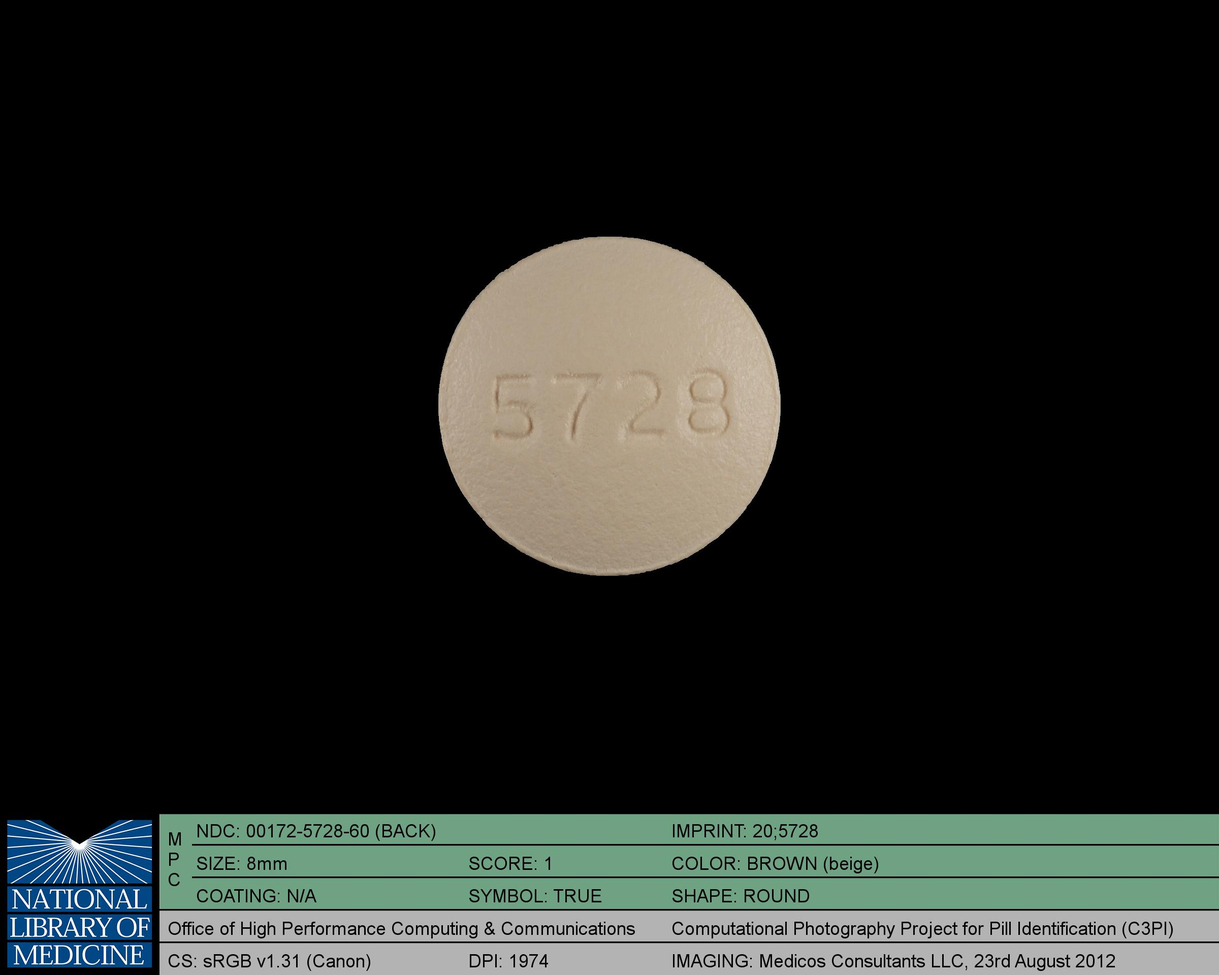Pill: (430, 225, 791, 586)
